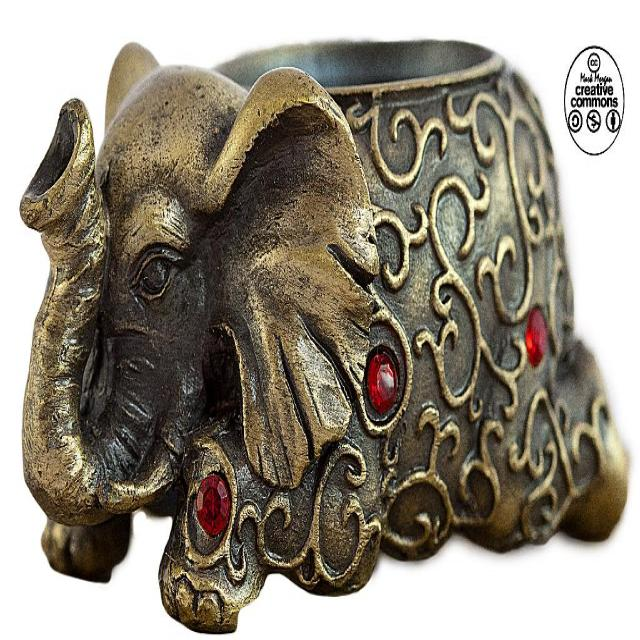elephant: (13, 40, 631, 639)
